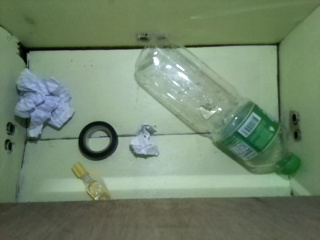bottle: (134, 33, 300, 176)
paper: (13, 70, 75, 140), (127, 125, 158, 162)
